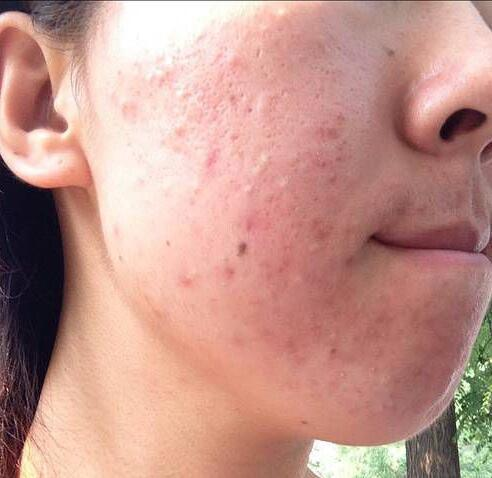fore: (219, 47, 254, 77), (151, 63, 182, 90), (237, 207, 263, 236), (304, 215, 328, 242), (317, 112, 341, 138), (166, 271, 202, 288), (315, 150, 337, 177), (272, 249, 291, 276), (114, 94, 132, 117), (203, 154, 221, 173), (221, 254, 240, 270)
